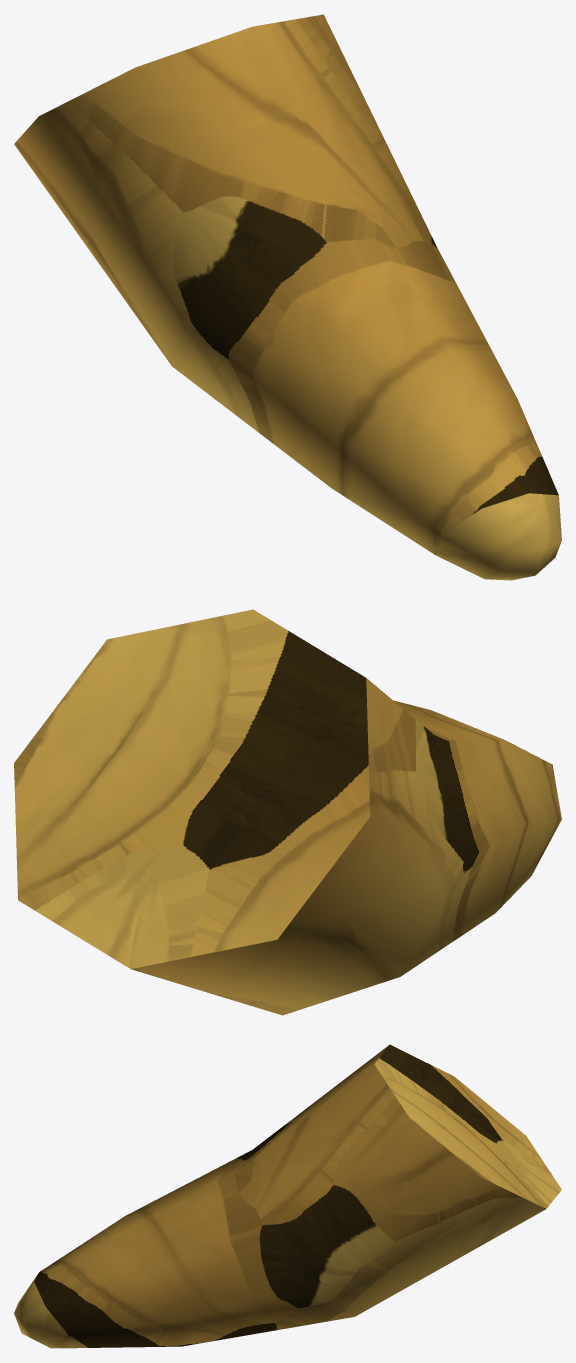
File: banana_gib.fbx
3 renders of one model, top to bottom at view 1: azimuth 30°, elevation 25°; view 2: azimuth 150°, elevation 25°; view 3: azimuth 270°, elevation 25°, orthographic. The views are drawn at different scales.
Visible parts, largest first — view 1: gib; view 2: gib; view 3: gib.
Boxes of the visible parts, x1=… form: gib: x1=14, y1=14, x2=561, y2=580; gib: x1=14, y1=609, x2=561, y2=1015; gib: x1=14, y1=1044, x2=561, y2=1348.
Size of the model in its own units: 3.81 by 9.29 by 5.07.
1 material, 1 textured.
